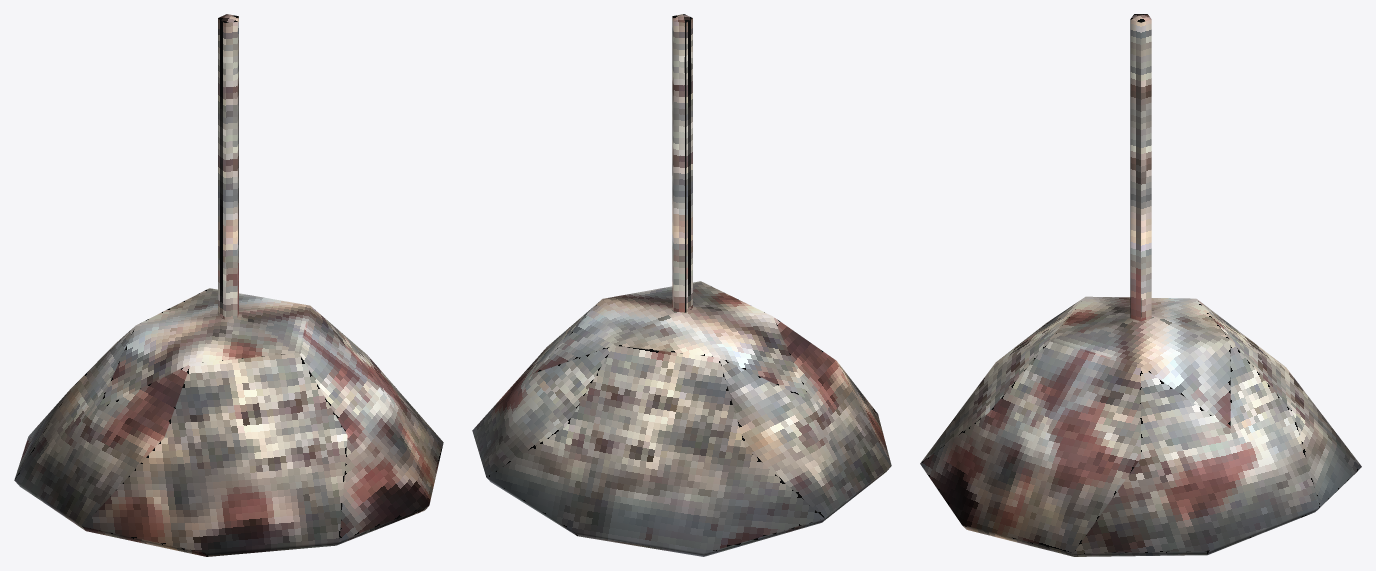
Rendered from rooflamp_metal.glb.
3 views of the same model, side by side, from view 1: azimuth 30°, elevation 25°; view 2: azimuth 150°, elevation 25°; view 3: azimuth 270°, elevation 25° (orthographic). The views are drawn at different scales.
Visible parts, largest first — view 1: rooflamp_metal; view 2: rooflamp_metal; view 3: rooflamp_metal.
Boxes of the visible parts, x1,y1,x2,y2 form: rooflamp_metal: [14, 14, 443, 556]; rooflamp_metal: [472, 14, 891, 556]; rooflamp_metal: [920, 14, 1361, 556].
Bounding box in the file's own units: 2.34 × 2.87 × 2.46.
Materials: 1 (1 with a texture image).
